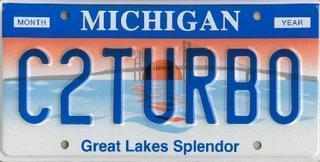placa de veiculo: (3, 3, 318, 158)
